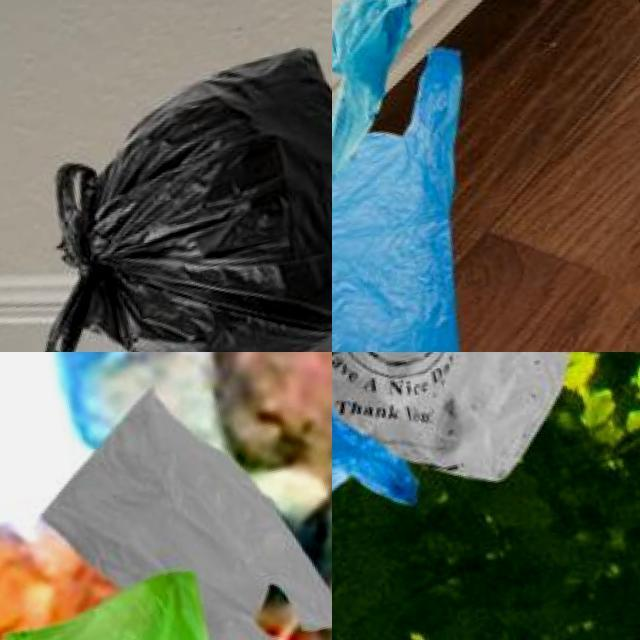waste: (0, 28, 332, 352), (26, 354, 332, 640), (332, 2, 527, 352), (332, 352, 618, 507), (0, 548, 317, 640), (332, 352, 438, 613)
